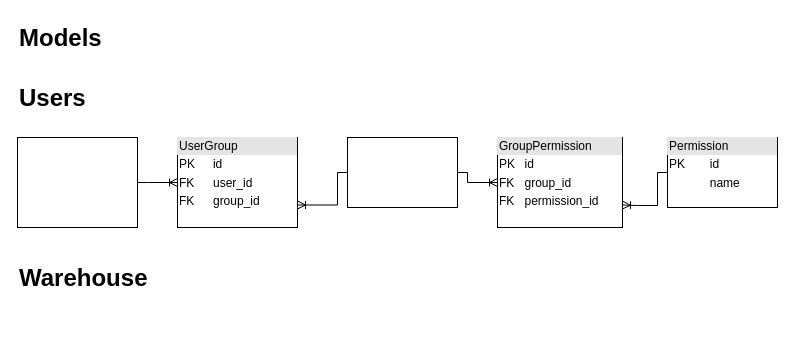
The diagram is 795 pixels wide and 337 high, and some of its shapes have lost their labels. The shapes that lost their labels are listed below. From the top down, each one's box as (x1, y1, x2, y2) in pixels, then its label:
(16, 136, 138, 228): User PK id username password
(346, 136, 458, 208): Group PK id name
